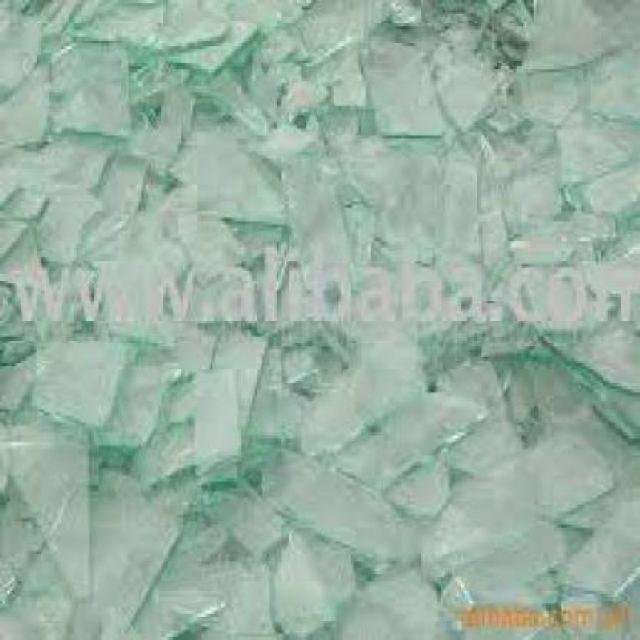kaca: (0, 0, 638, 638), (74, 455, 186, 637), (260, 442, 415, 570), (500, 254, 638, 395), (418, 481, 582, 594), (0, 415, 89, 591), (309, 320, 428, 442), (466, 426, 603, 531), (334, 389, 477, 485), (403, 260, 531, 366), (92, 215, 198, 331), (151, 184, 257, 290), (97, 343, 191, 459), (175, 118, 277, 224), (264, 528, 358, 637), (400, 248, 489, 363), (512, 0, 638, 77), (44, 40, 136, 142), (497, 323, 583, 432), (272, 120, 338, 262), (388, 0, 542, 60), (178, 541, 274, 637), (3, 534, 92, 637), (200, 469, 302, 558), (31, 331, 129, 423), (154, 0, 301, 60), (322, 565, 444, 637), (546, 432, 637, 528), (363, 26, 440, 139), (564, 498, 638, 614), (431, 17, 502, 135), (440, 565, 554, 637), (509, 189, 611, 262), (538, 106, 632, 185), (448, 126, 502, 254), (277, 311, 355, 397), (122, 78, 186, 178), (358, 188, 432, 274), (286, 0, 402, 54), (0, 211, 40, 360), (176, 63, 264, 129), (3, 129, 106, 185), (248, 343, 302, 449), (134, 568, 215, 637), (218, 317, 268, 426), (571, 144, 637, 222), (443, 406, 525, 468), (192, 360, 240, 465), (97, 142, 163, 218), (322, 130, 396, 196), (574, 363, 638, 439), (24, 184, 94, 253), (0, 478, 40, 597), (0, 37, 48, 132), (499, 162, 566, 230), (400, 141, 445, 234), (306, 26, 363, 99), (562, 583, 638, 637), (578, 43, 637, 112), (166, 498, 231, 560), (162, 23, 248, 69), (68, 3, 154, 49), (416, 498, 482, 557), (512, 63, 586, 115), (431, 346, 502, 400), (255, 60, 320, 118), (388, 455, 452, 511), (248, 23, 309, 79), (346, 265, 392, 337), (0, 320, 35, 411), (0, 0, 74, 37), (594, 208, 638, 250)
